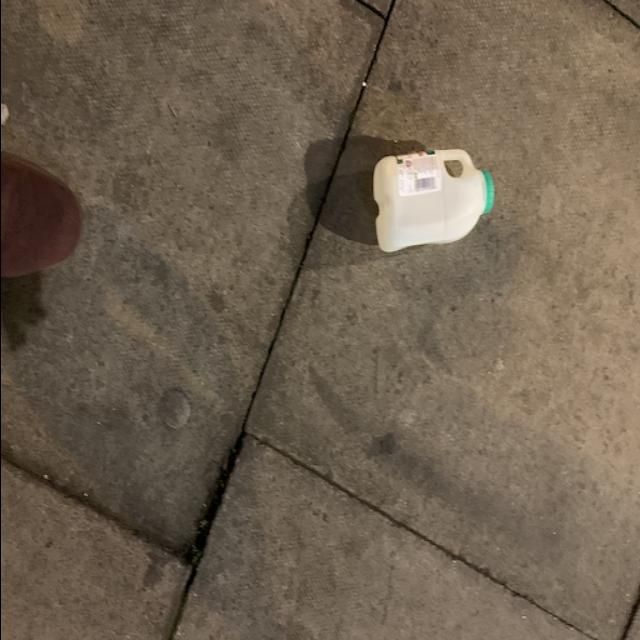litter: (367, 148, 495, 258)
